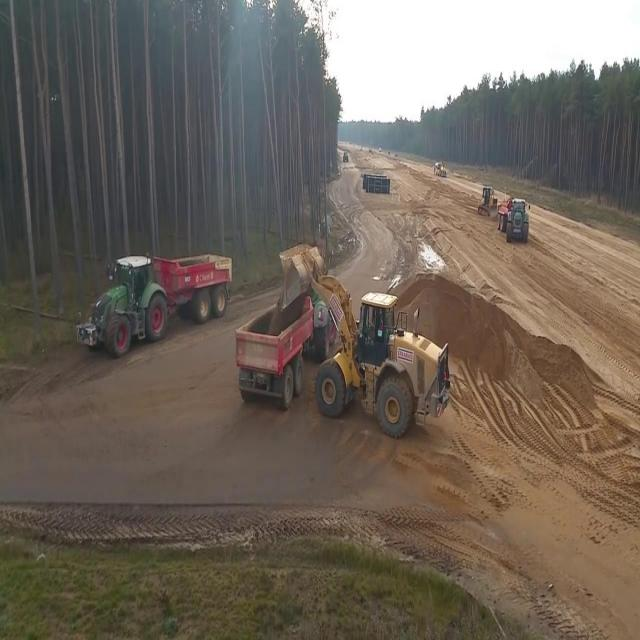Dump Truck: (74, 247, 232, 357), (235, 291, 337, 413)
Loader: (276, 240, 450, 436)
